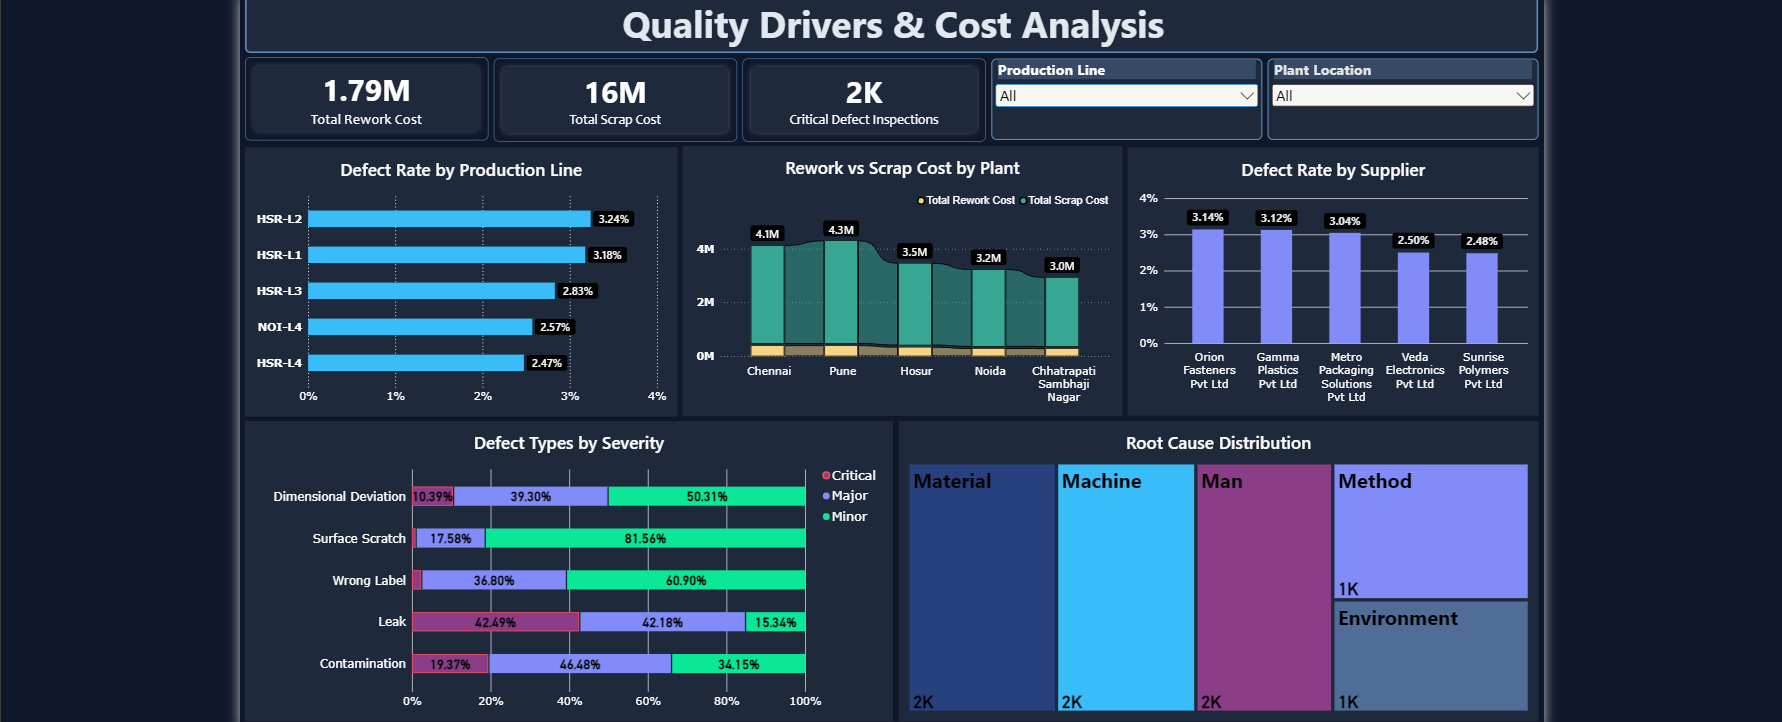

Layout of this report page (visuals, bound fields, positions):
{"tool":"powerbi","page":{"name":"Quality Drivers & Cost Analysis","canvas":[1920,1080],"ordinal":1},"visuals":[{"type":"cardVisual","title":"Total Inspections","fields":{"Data":["Sum(product_quality_control_cleaned.rework_cost_inr)"]},"box":[7.1,90,358.3,122.7],"z":0},{"type":"cardVisual","fields":{"Data":["Sum(product_quality_control_cleaned.scrap_cost_inr)"]},"box":[373.6,91.8,358,122],"z":1000},{"type":"cardVisual","fields":{"Data":["product_quality_control_cleaned.Critical Defect Inspections"]},"box":[740,91.8,358,122],"z":2000},{"type":"textbox","title":"Quality Drivers & Cost Analysis","box":[8,0,1904,84],"z":3000},{"type":"columnChart","title":"Rework vs Scrap Cost by Plant","fields":{"Category":["product_quality_control_cleaned.plant_location"],"Y":["product_quality_control_cleaned.Total Rework Cost","product_quality_control_cleaned.Total Scrap Cost"]},"box":[652,221.3,648,397.3],"z":4000},{"type":"clusteredColumnChart","title":"Defect Rate by Supplier","fields":{"Category":["product_quality_control_cleaned.supplier_name"],"Y":["product_quality_control_cleaned.Overall Defect Rate"]},"box":[1306.2,223,605.8,395],"z":5000},{"type":"clusteredBarChart","title":"Defect Rate by Production Line","fields":{"Category":["product_quality_control_cleaned.production_line"],"Y":["product_quality_control_cleaned.Overall Defect Rate"]},"box":[8,222,636.7,396.7],"z":6000},{"type":"hundredPercentStackedBarChart","title":"Defect Types by Severity","fields":{"Category":["product_quality_control_cleaned.defect_type"],"Series":["product_quality_control_cleaned.defect_severity"],"Y":["product_quality_control_cleaned.Total Inspections"]},"box":[7.5,625.4,953.8,442.1],"z":7000},{"type":"slicer","fields":{"Values":["product_quality_control_cleaned.plant_location"]},"box":[1513.3,91.7,399.2,120],"z":8000},{"type":"slicer","fields":{"Values":["product_quality_control_cleaned.production_line"]},"box":[1106.7,91.7,399.2,120],"z":9000},{"type":"treemap","title":"Root Cause Distribution","fields":{"Group":["product_quality_control_cleaned.root_cause_category"],"Values":["product_quality_control_cleaned.Total Inspections"]},"box":[970.5,625.3,942.1,442.6],"z":10000}]}

Visuals, with their boxes on the page's 1920x1080 design canvas (x1, y1, x2, y2). These are canvas units, not pixel positions in the 1782x722 screenshot, which may show the page scaled, cropped or inside an application window:
"Total Inspections" cardVisual: left=7, top=90, right=365, bottom=213
cardVisual - Sum(product_quality_control_cleaned.scrap_cost_inr): left=374, top=92, right=732, bottom=214
cardVisual - product_quality_control_cleaned.Critical Defect Inspections: left=740, top=92, right=1098, bottom=214
"Quality Drivers & Cost Analysis" textbox: left=8, top=0, right=1912, bottom=84
"Rework vs Scrap Cost by Plant" columnChart: left=652, top=221, right=1300, bottom=619
"Defect Rate by Supplier" clusteredColumnChart: left=1306, top=223, right=1912, bottom=618
"Defect Rate by Production Line" clusteredBarChart: left=8, top=222, right=645, bottom=619
"Defect Types by Severity" hundredPercentStackedBarChart: left=8, top=625, right=961, bottom=1068
slicer - product_quality_control_cleaned.plant_location: left=1513, top=92, right=1912, bottom=212
slicer - product_quality_control_cleaned.production_line: left=1107, top=92, right=1506, bottom=212
"Root Cause Distribution" treemap: left=970, top=625, right=1913, bottom=1068
